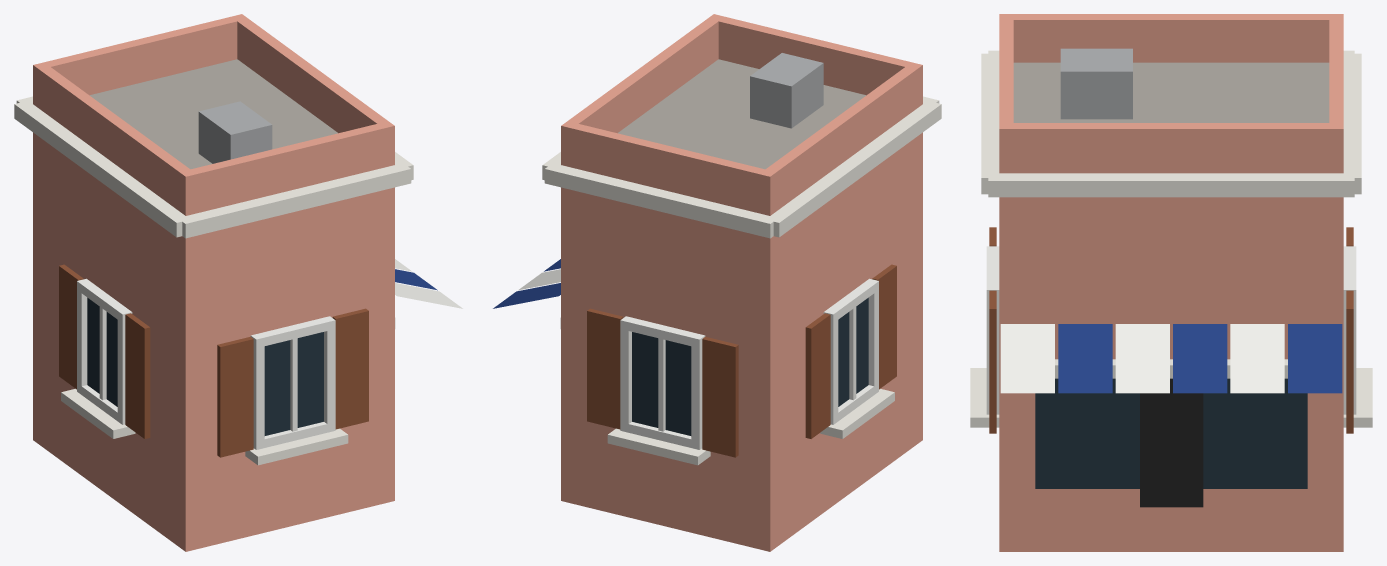
3 views of the same model, side by side, from view 1: azimuth 30°, elevation 25°; view 2: azimuth 150°, elevation 25°; view 3: azimuth 270°, elevation 25° (orthographic). The views are drawn at different scales.
Visible parts, largest first — view 1: b12013; view 2: b12013; view 3: b12013.
Part boxes in pixels (x1,y1,x2,y2): b12013: [14, 14, 462, 551]; b12013: [493, 14, 941, 551]; b12013: [970, 14, 1372, 551].
Bounding box in the file's own units: 2164 × 2610 × 2224.
